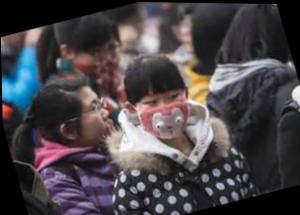NONE: (72, 91, 119, 150)
OK: (133, 79, 197, 145)
WRONG: (72, 35, 126, 93)
